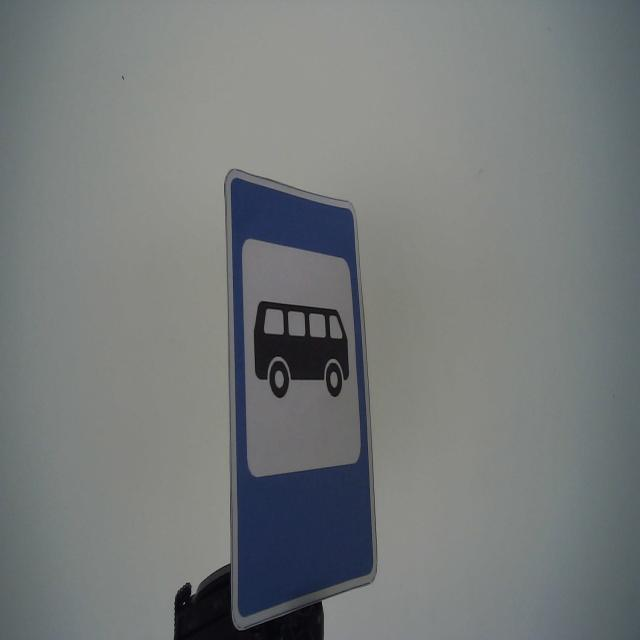bus_stop: (222, 167, 380, 634)
